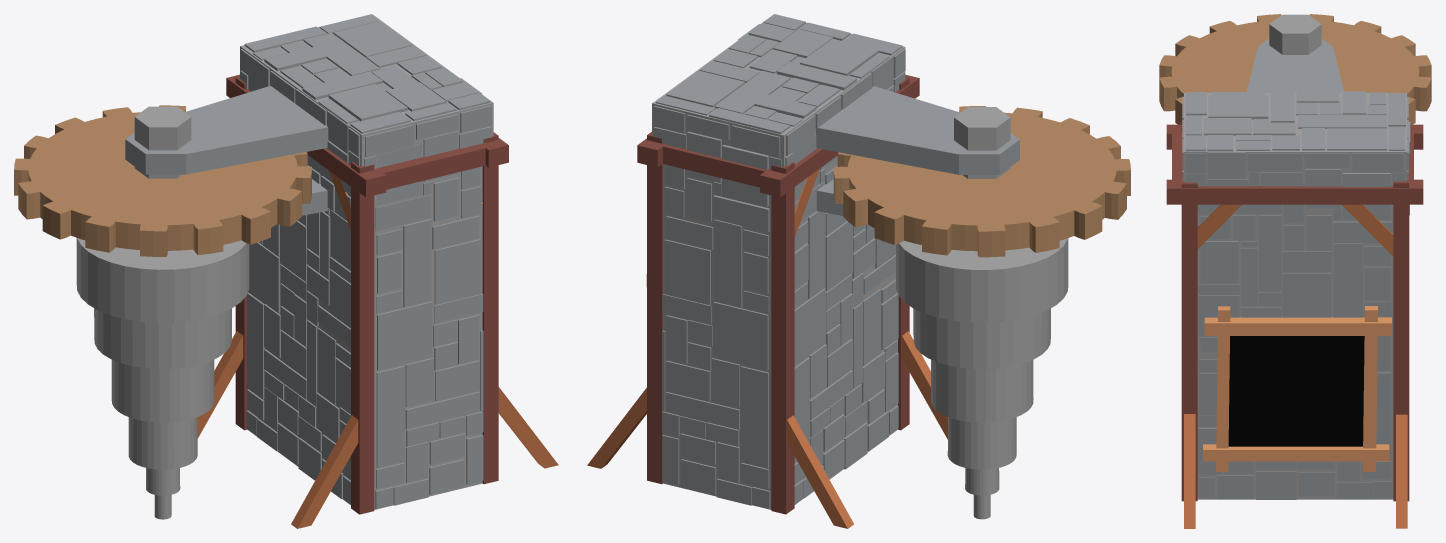
Rendered from Miner.glb.
The picture shows the model from 3 angles, left to right: view 1: azimuth 30°, elevation 25°; view 2: azimuth 150°, elevation 25°; view 3: azimuth 270°, elevation 25°; orthographic projection. The views are drawn at different scales.
Parts seen in each view (by area): view 1: Support, Drill; view 2: Support, Drill; view 3: Support, OutPort, Drill.
Part boxes in pixels (box(x1,y1,x2,y2)): Support: box(125, 14, 558, 528); Drill: box(14, 105, 311, 519); Support: box(587, 14, 1019, 528); Drill: box(833, 106, 1130, 519); Support: box(1166, 38, 1423, 528); OutPort: box(1203, 306, 1391, 471); Drill: box(1159, 14, 1431, 124).
Bounding box in the file's own units: 3.77 × 3.1 × 2.09.
